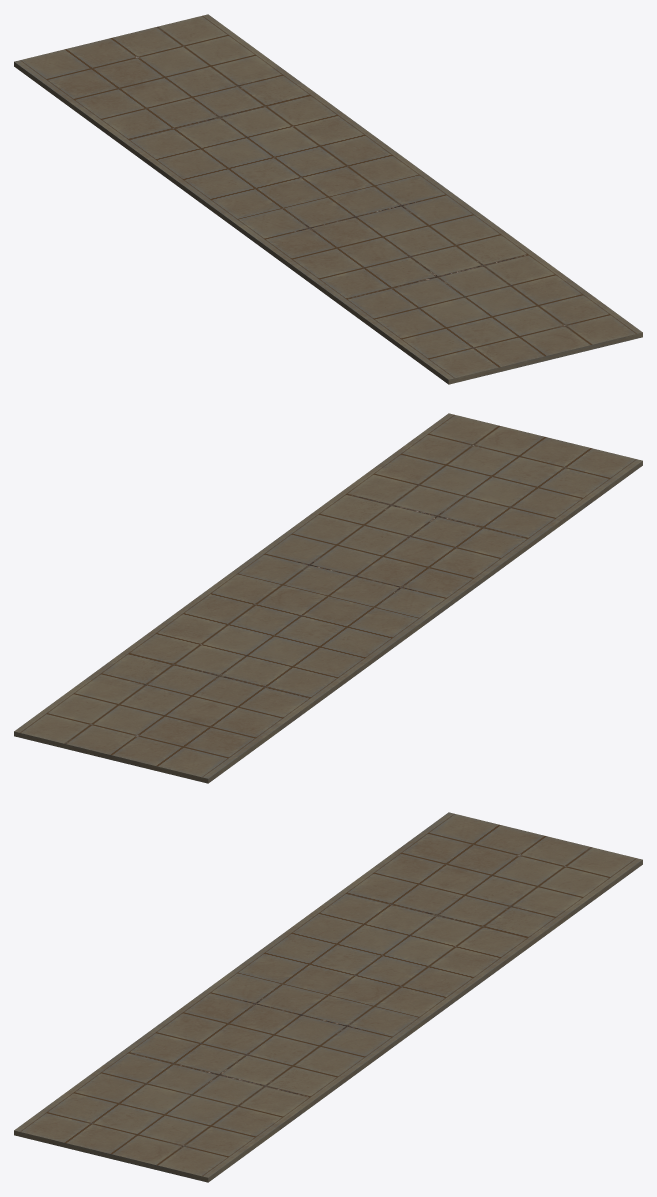
The model's file is SM_Sidewalk_02.fbx.
The picture shows the model from 3 angles, top to bottom: view 1: azimuth 30°, elevation 25°; view 2: azimuth 150°, elevation 25°; view 3: azimuth 330°, elevation 25°; orthographic projection.
Visible parts, largest first — view 1: SM_Sidewalk_02; view 2: SM_Sidewalk_02; view 3: SM_Sidewalk_02.
Boxes of the visible parts, box(x1,y1,x2,y2) form: SM_Sidewalk_02: box(14, 14, 642, 384); SM_Sidewalk_02: box(14, 413, 642, 783); SM_Sidewalk_02: box(14, 812, 642, 1182).
Bounding box in the file's own units: 142 × 550 × 3.35.
1 material, 1 textured.
